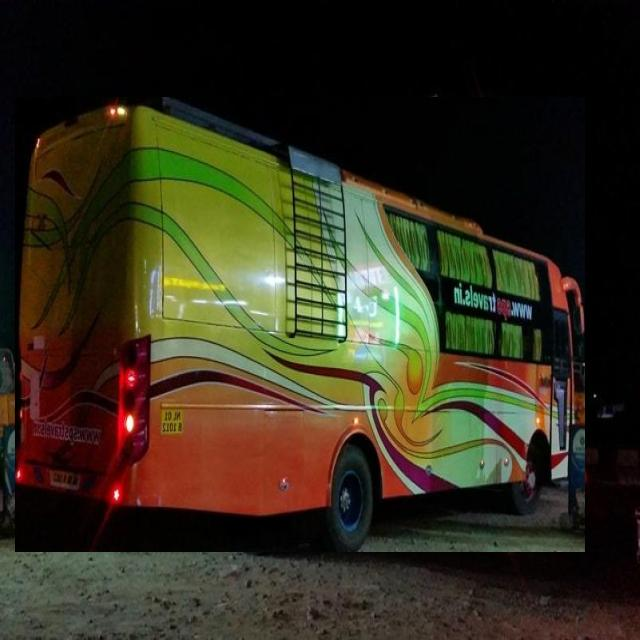bus: (15, 98, 585, 552)
